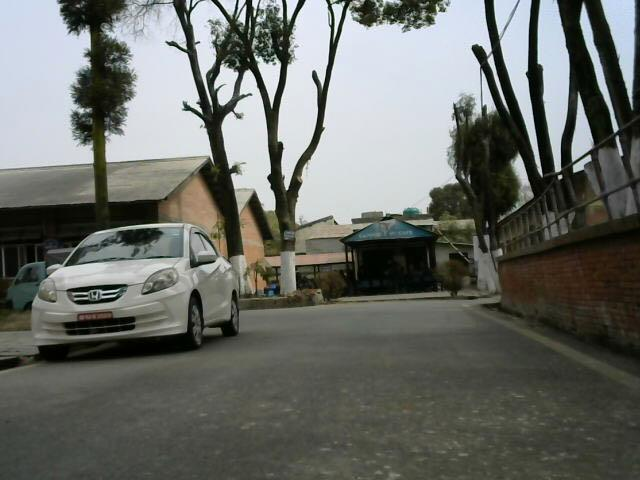Car: (26, 218, 250, 356)
Road: (0, 296, 640, 480)
Tree: (175, 0, 409, 293), (442, 88, 526, 300)
